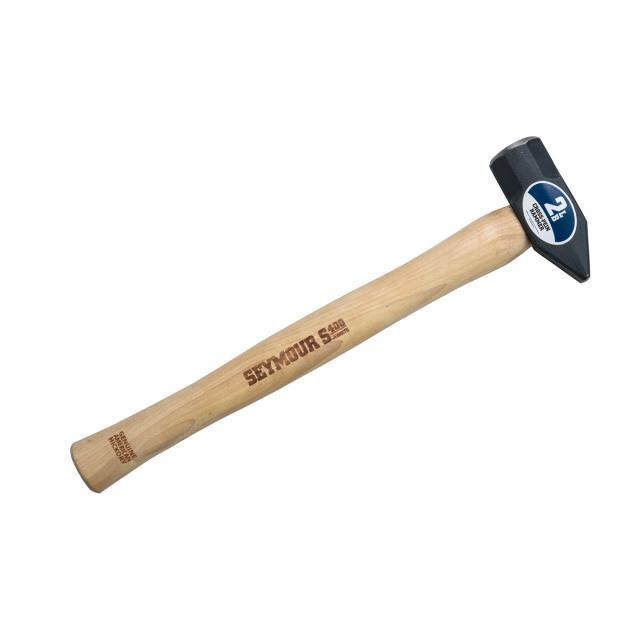hammer: (54, 130, 592, 507)
